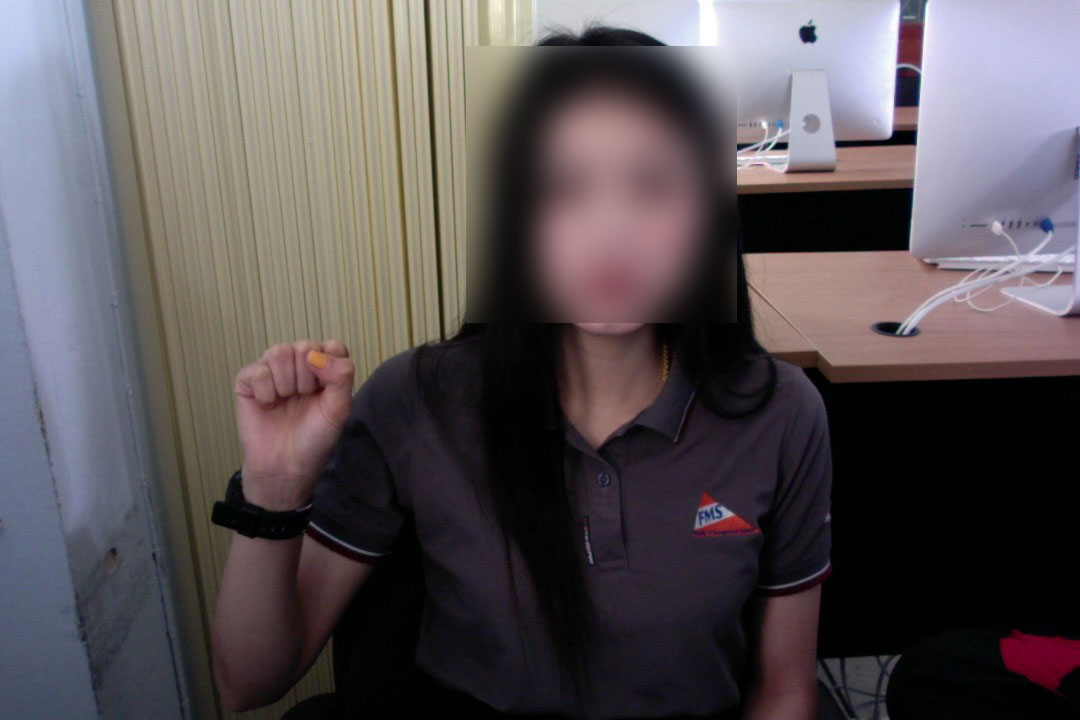sor: (223, 331, 362, 489)
